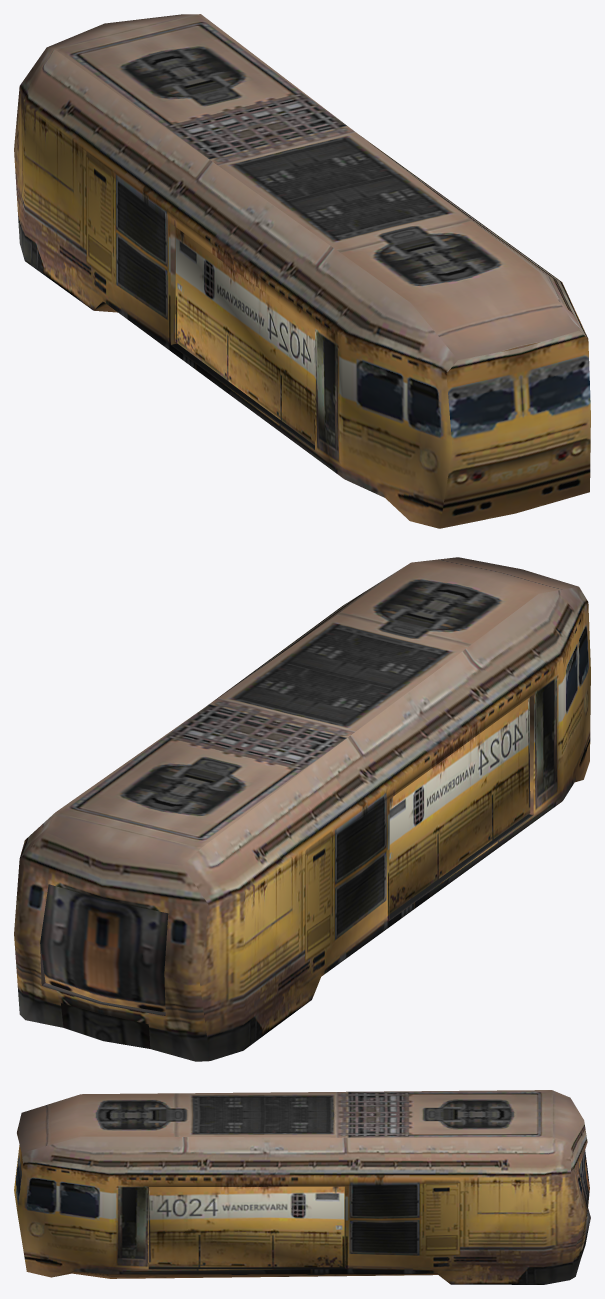
File: W13_Train.fbx
3 renders of one model, top to bottom at view 1: azimuth 30°, elevation 25°; view 2: azimuth 150°, elevation 25°; view 3: azimuth 270°, elevation 25°, orthographic. The views are drawn at different scales.
Parts seen in each view (by area): view 1: Train.004, Train.023; view 2: Train.004, Train.023; view 3: Train.004, Train.009.
Part boxes in pixels (x1=…): Train.004: x1=14, y1=14, x2=590, y2=528; Train.023: x1=175, y1=227, x2=314, y2=445; Train.004: x1=14, y1=557, x2=590, y2=1061; Train.023: x1=389, y1=697, x2=530, y2=914; Train.004: x1=14, y1=1090, x2=590, y2=1284; Train.009: x1=149, y1=1186, x2=344, y2=1267.
Size of the model in its own units: 369 by 335 by 1236.
